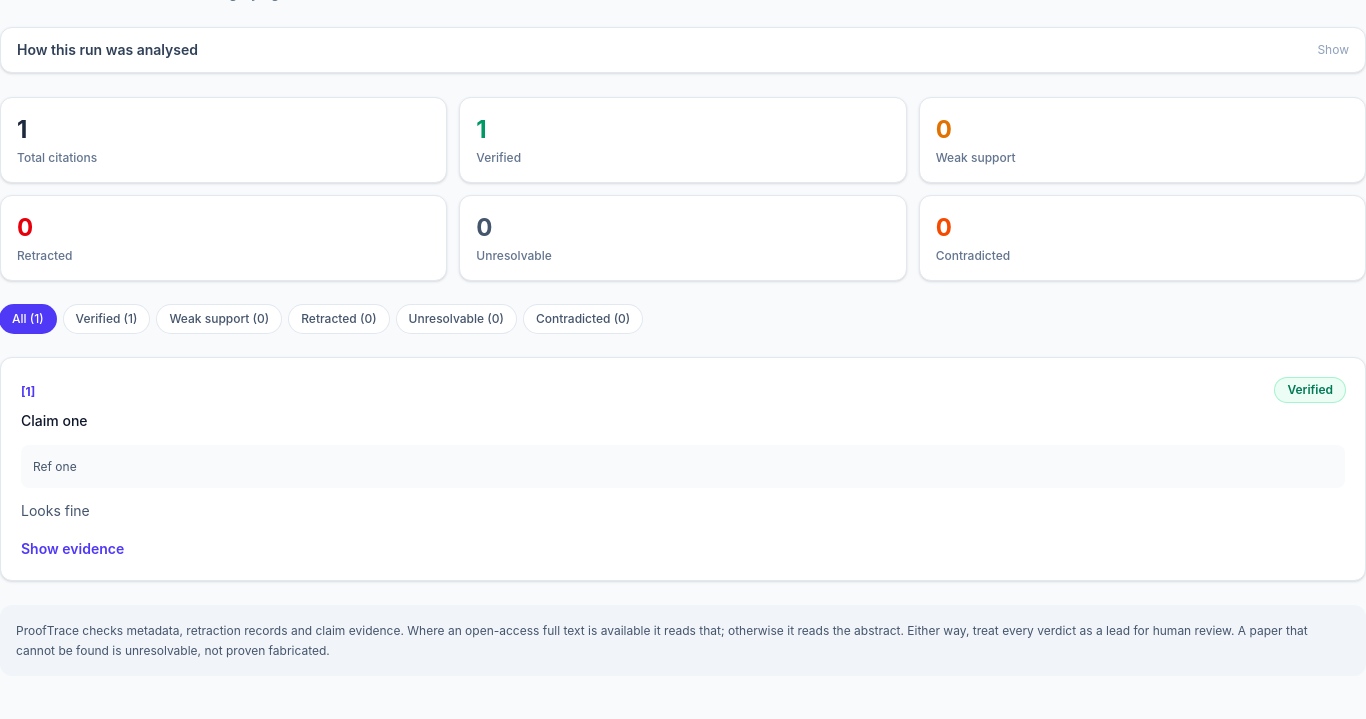
labels evidence that came from the full text
Click the button "Show evidence": (73, 549) [21,539,124,559]
(page scrolled)
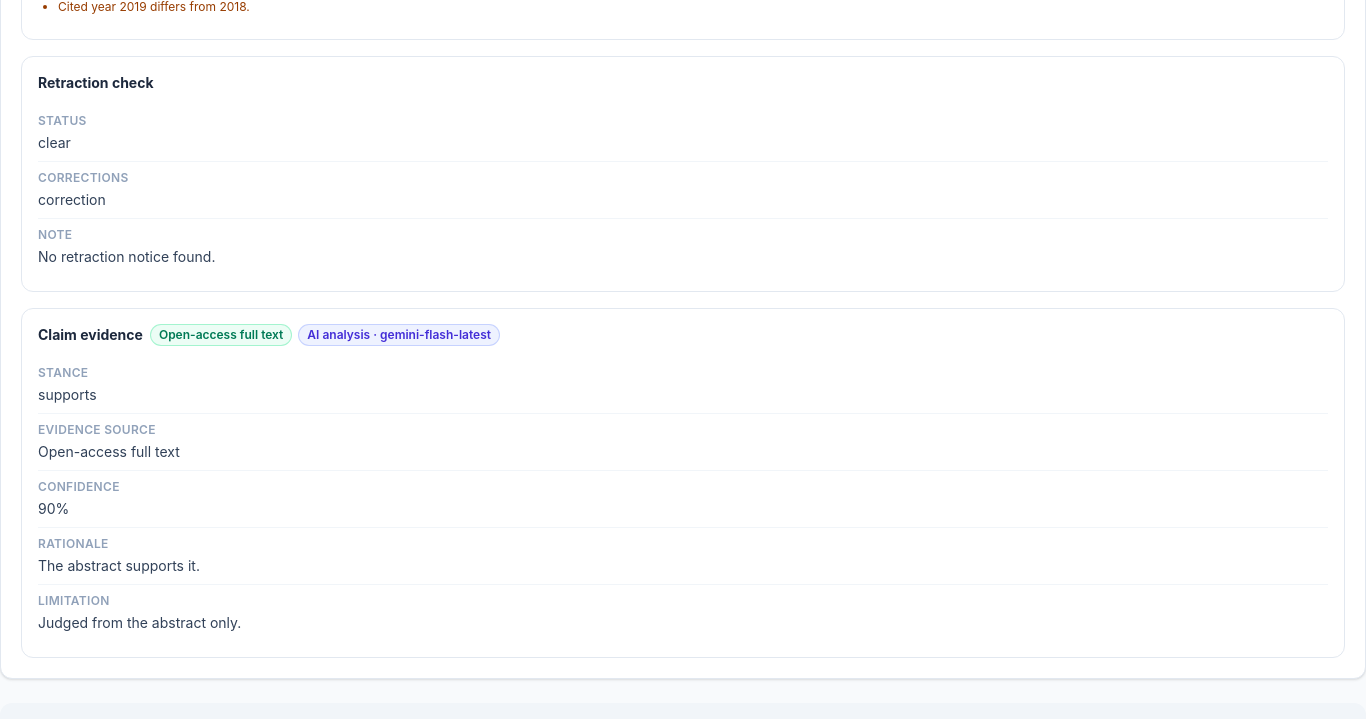
Now the text "Evidence source" is shown, box [38,422,156,437]
Now the text "Open-access full text" next to "AI analysis" is shown, box [159,327,283,342]
